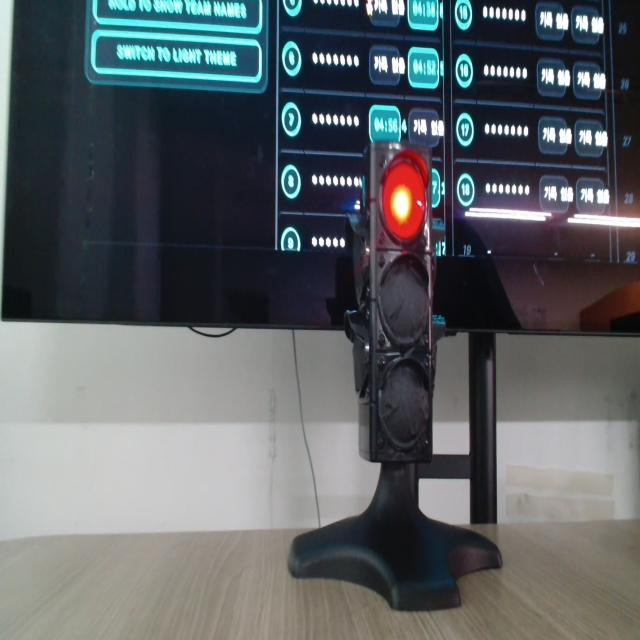red_light: (382, 159, 425, 241)
